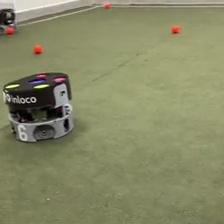ball: (170, 23, 180, 34), (32, 44, 43, 54), (6, 25, 14, 34), (104, 2, 111, 7)
robot: (2, 70, 76, 145), (1, 6, 16, 36)
